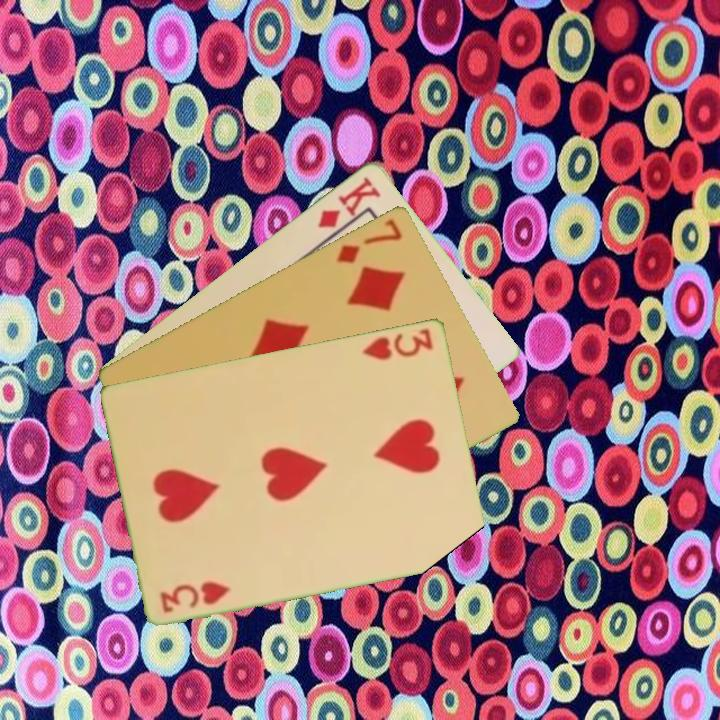3h: (359, 324, 436, 363), (157, 577, 234, 615)
7d: (332, 214, 406, 266)
Kd: (314, 172, 384, 231)
